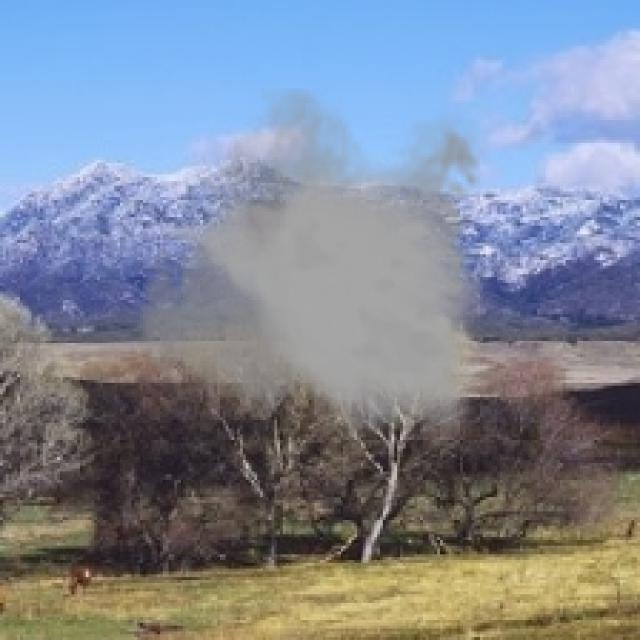smoke: (134, 89, 492, 448)
